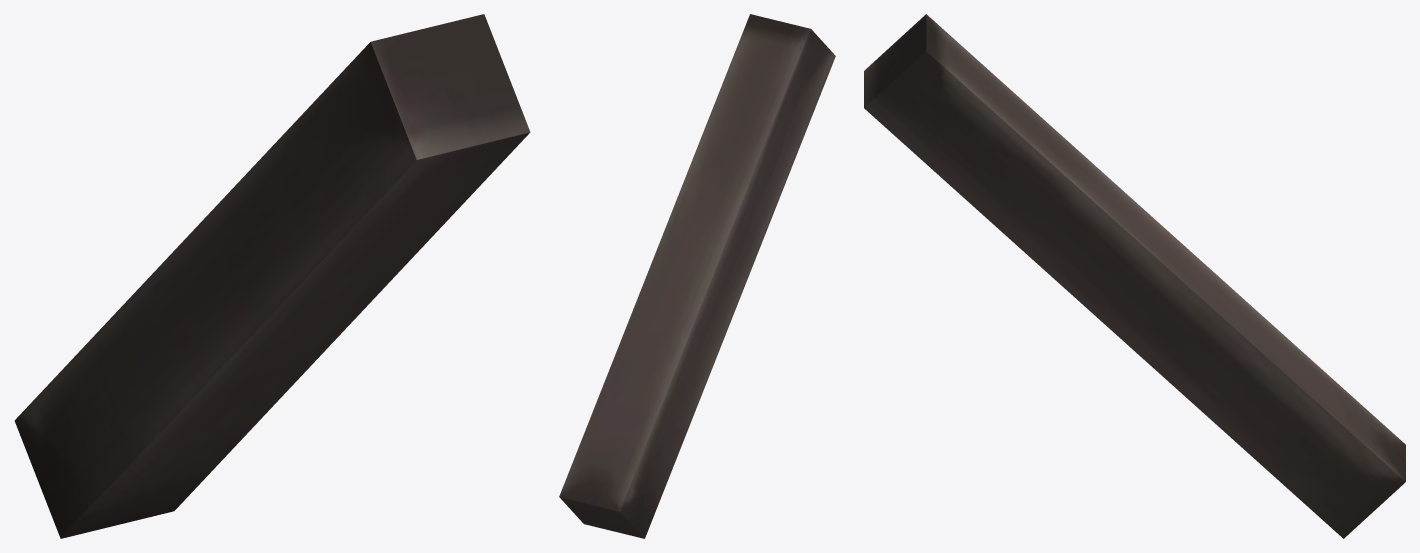
The model's file is main_frame__front_leg_0.glb.
3 views of the same model, side by side, from view 1: azimuth 30°, elevation 25°; view 2: azimuth 150°, elevation 25°; view 3: azimuth 270°, elevation 25° (orthographic). The views are drawn at different scales.
Parts seen in each view (by area): view 1: world; view 2: world; view 3: world.
Boxes of the visible parts, <box> form: world: <box>14,14,530,538</box>; world: <box>559,14,835,538</box>; world: <box>864,14,1405,538</box>.
Bounding box in the file's own units: 0.055 × 0.3347 × 0.3371.
Materials: 1 (1 with a texture image).
